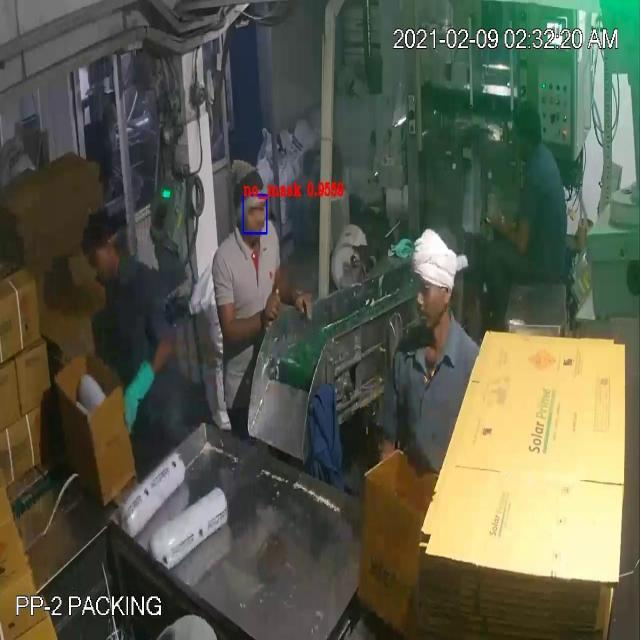Gloves: (42, 66, 514, 398)
